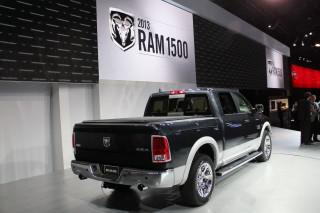ram: (107, 2, 139, 53), (101, 133, 115, 151)
